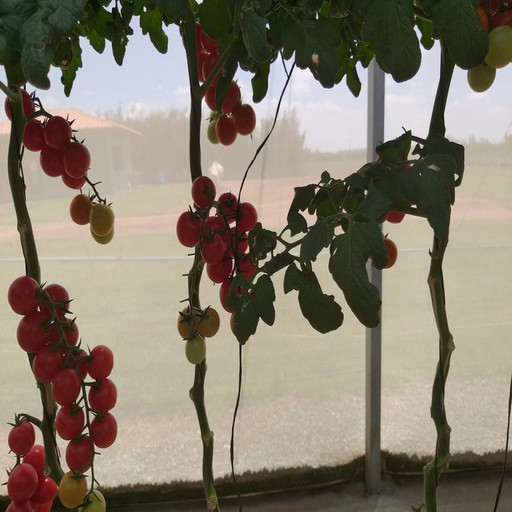red tomato bunch: (9, 275, 118, 469), (4, 87, 112, 242), (177, 176, 266, 337), (341, 139, 412, 270), (182, 21, 257, 142), (447, 1, 510, 94), (5, 418, 58, 512)
